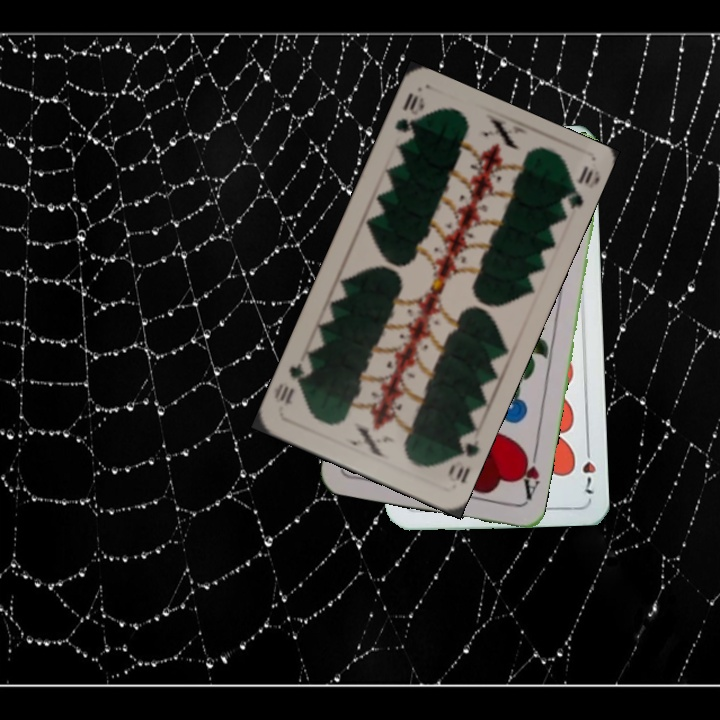G10: (443, 428, 482, 486), (390, 88, 427, 136)
H7: (579, 440, 599, 497)
HA: (514, 444, 542, 503)
